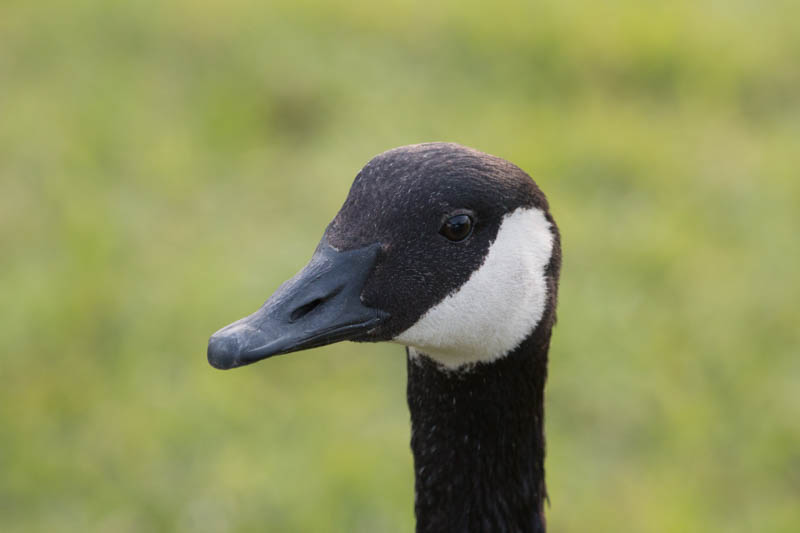goose-head: (206, 140, 563, 380)
